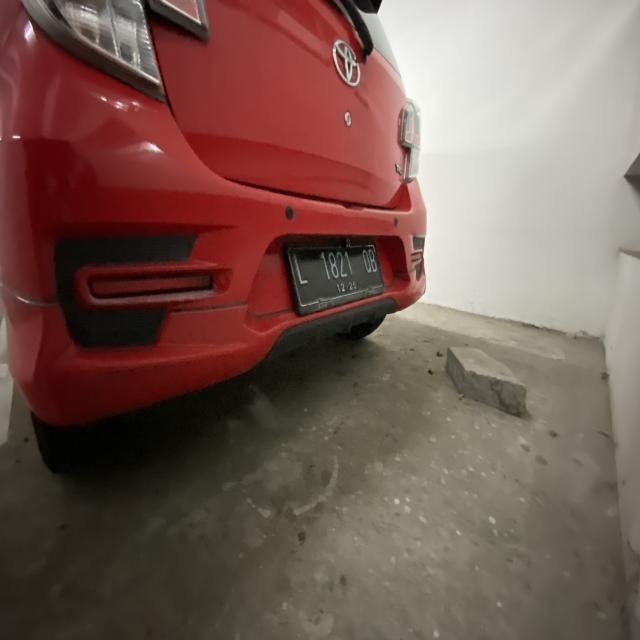1: (320, 251, 330, 282)
2: (338, 251, 347, 279)
8: (330, 250, 338, 281)
B: (370, 248, 378, 276)
L: (292, 250, 311, 290), (347, 251, 354, 277)
Q: (362, 248, 370, 278)
